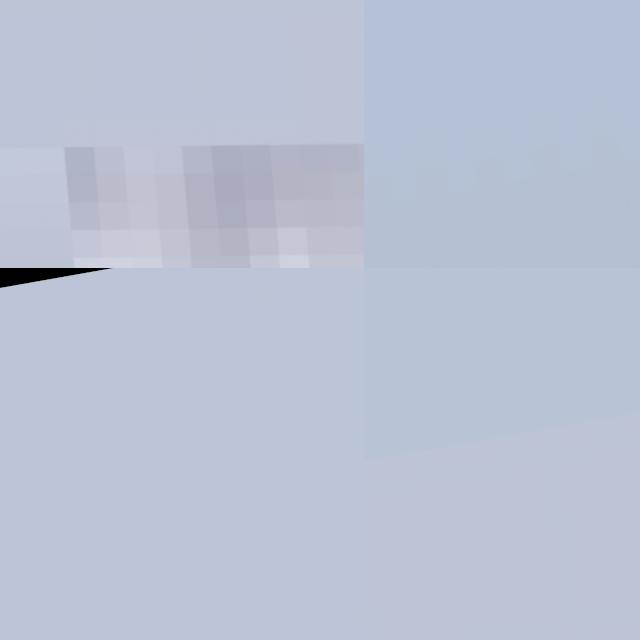drone: (0, 0, 364, 268)
